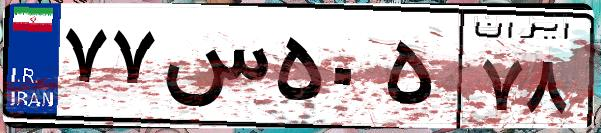0: (330, 28, 385, 110)
5: (270, 28, 330, 110), (385, 28, 445, 110)
7: (57, 26, 110, 100), (475, 38, 525, 113), (110, 28, 158, 98)
8: (525, 38, 570, 115)
س: (158, 20, 270, 120)
